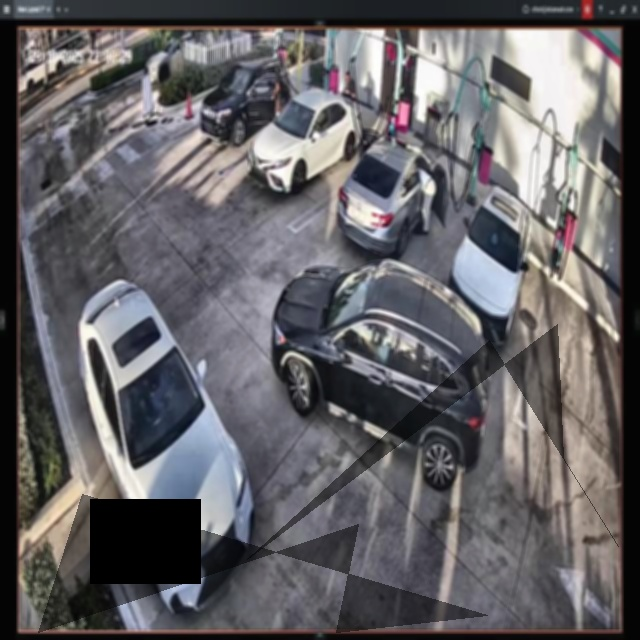Car: (77, 281, 254, 614), (272, 263, 488, 486), (338, 136, 447, 260), (452, 185, 530, 344), (250, 88, 363, 193), (203, 56, 289, 145)
